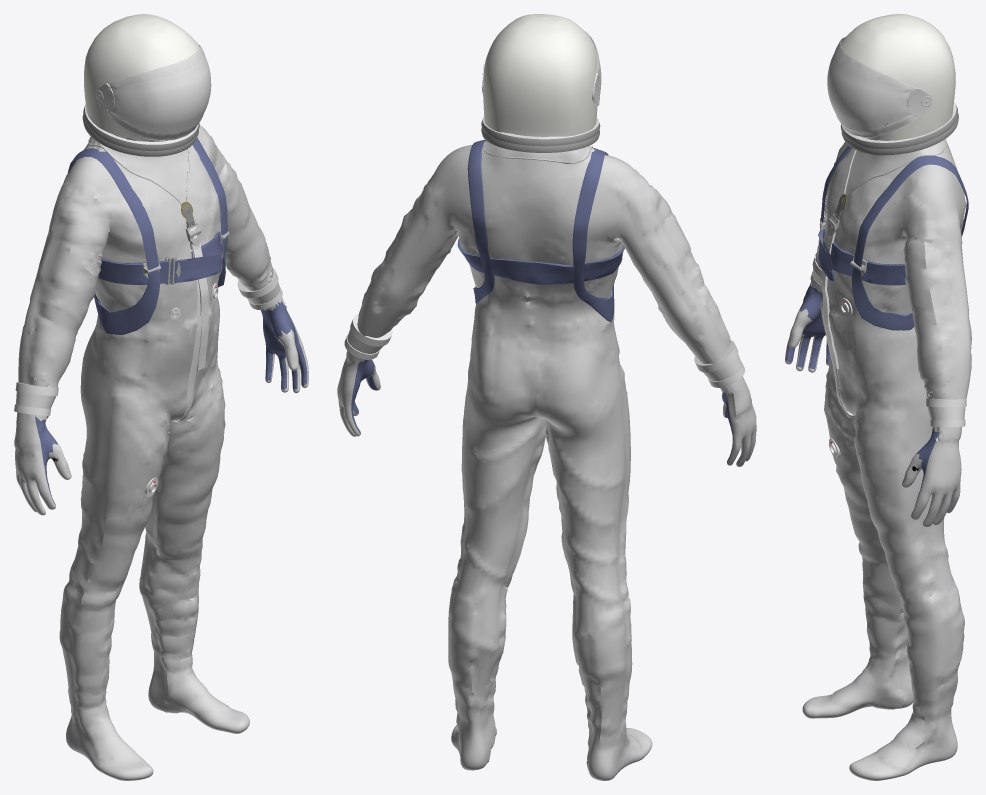
The model's file is mercury_suit_lod0.glb.
3 views of the same model, side by side, from view 1: azimuth 30°, elevation 25°; view 2: azimuth 150°, elevation 25°; view 3: azimuth 270°, elevation 25° (orthographic). The views are drawn at different scales.
Parts seen in each view (by area): view 1: mercury_suit_lod0; view 2: mercury_suit_lod0; view 3: mercury_suit_lod0.
Part boxes in pixels (bbox=[...]): mercury_suit_lod0: bbox=[14, 14, 308, 780]; mercury_suit_lod0: bbox=[337, 14, 756, 780]; mercury_suit_lod0: bbox=[785, 14, 971, 780].
Bounding box in the file's own units: 0.9948 × 2 × 0.4719.
